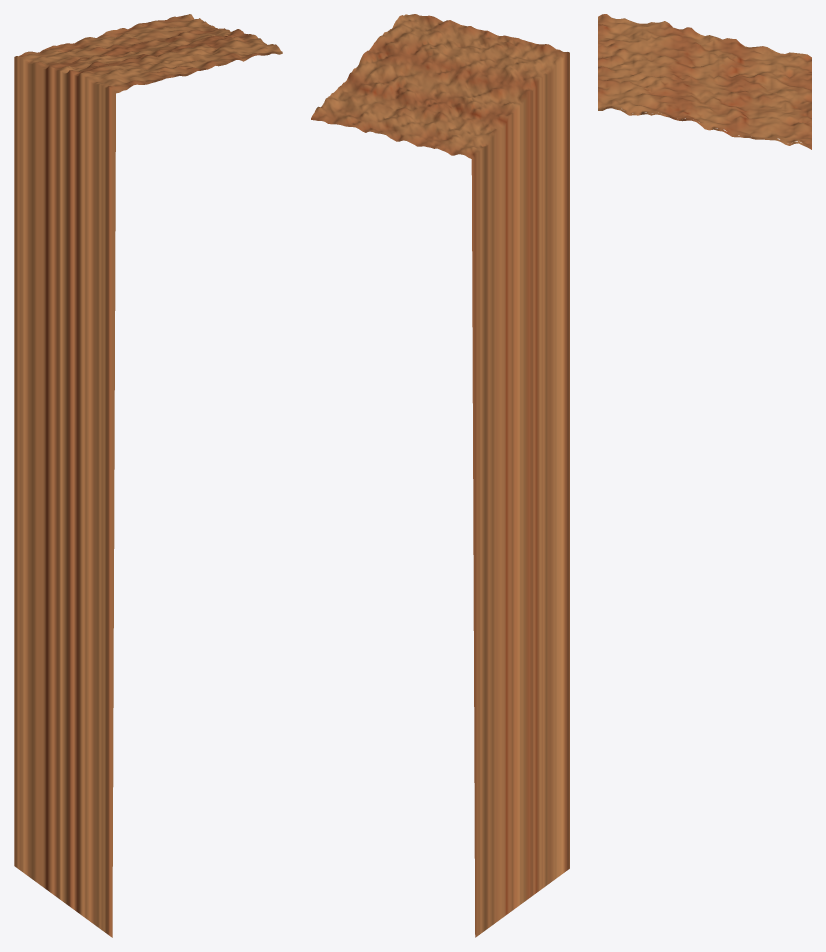
The model's file is terrain-121.glb.
3 views of the same model, side by side, from view 1: azimuth 30°, elevation 25°; view 2: azimuth 150°, elevation 25°; view 3: azimuth 270°, elevation 25° (orthographic). The views are drawn at different scales.
Visible parts, largest first — view 1: terrain-121; view 2: terrain-121; view 3: terrain-121.
Boxes of the visible parts, x1,y1,x2,y2 form: terrain-121: (14,14,282,937); terrain-121: (311,14,569,937); terrain-121: (598,14,811,149).
Bounding box in the file's own units: 384 × 1833 × 384.
